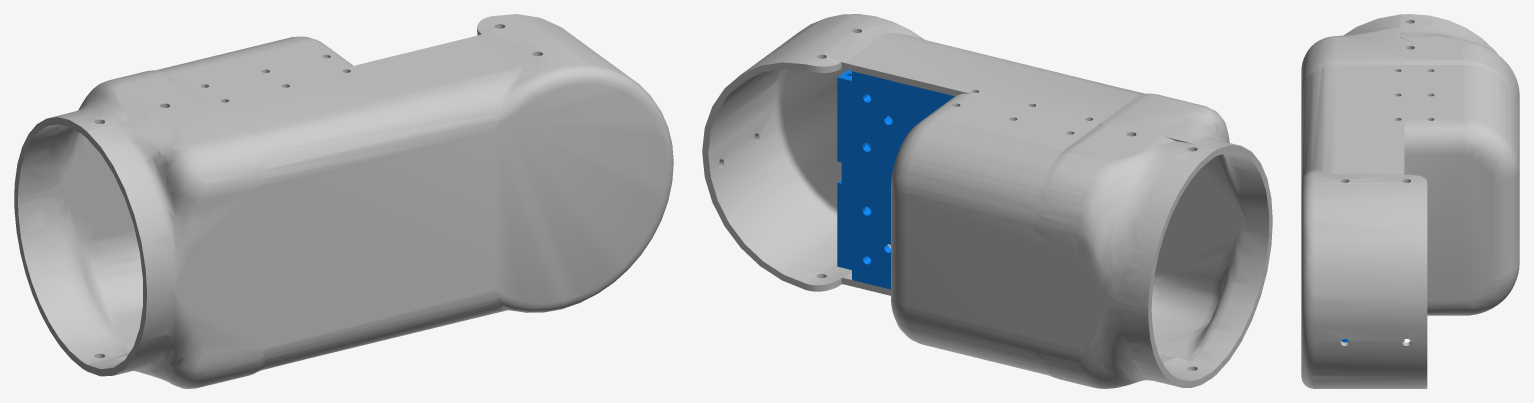
The model's file is body.dae.
3 renders of one model, left to right at view 1: azimuth 30°, elevation 25°; view 2: azimuth 150°, elevation 25°; view 3: azimuth 270°, elevation 25°, orthographic. The views are drawn at different scales.
Parts seen in each view (by area): view 1: right_body_link2; view 2: right_body_link2; view 3: right_body_link2.
Boxes of the visible parts, box(x1,y1,x2,y2) form: right_body_link2: box(14, 14, 673, 388); right_body_link2: box(702, 14, 1272, 388); right_body_link2: box(1301, 14, 1519, 388).
Bounding box in the file's own units: 0.245 × 0.1063 × 0.106.
